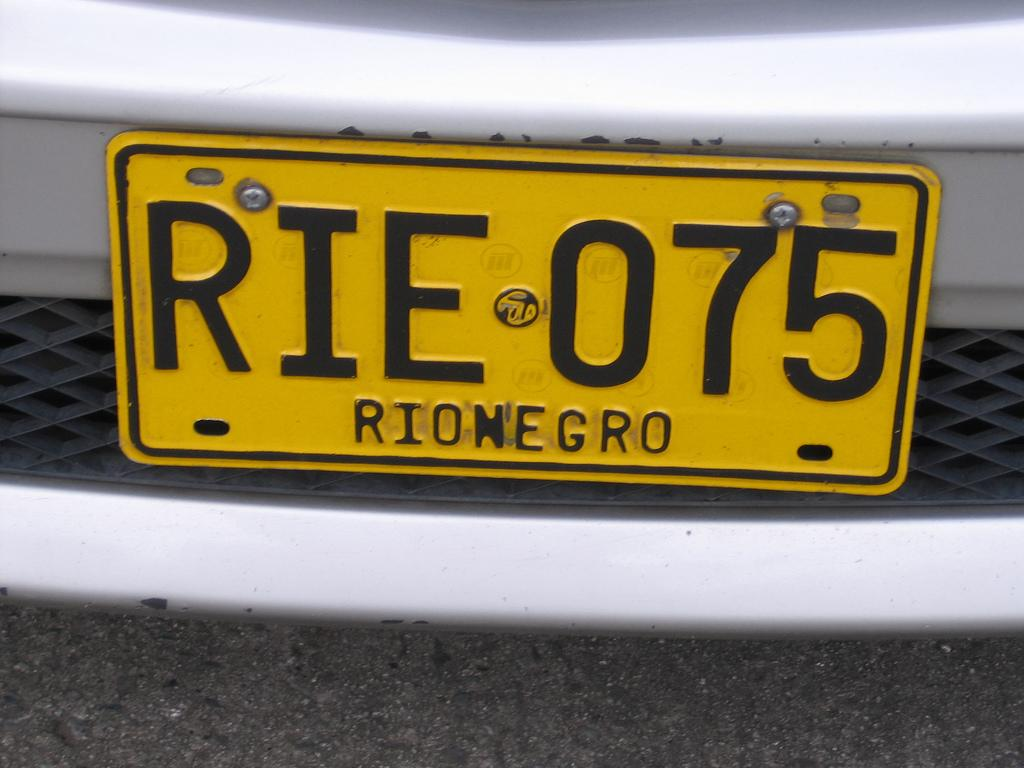placas: (100, 125, 946, 500)
